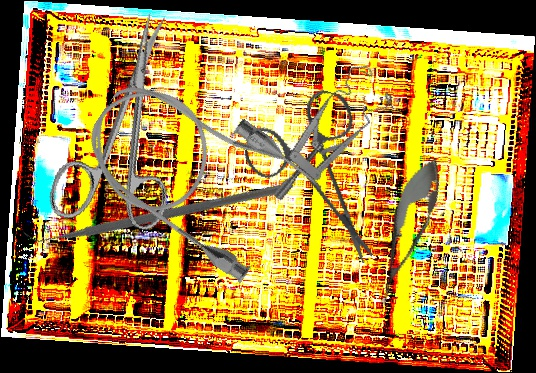Cannula: (66, 51, 329, 291)
Chopper: (17, 75, 286, 343)
Iris Scissors: (44, 0, 216, 244), (224, 74, 413, 265)
Micro Scissor: (363, 150, 452, 312)
Speculum: (237, 56, 412, 204)
